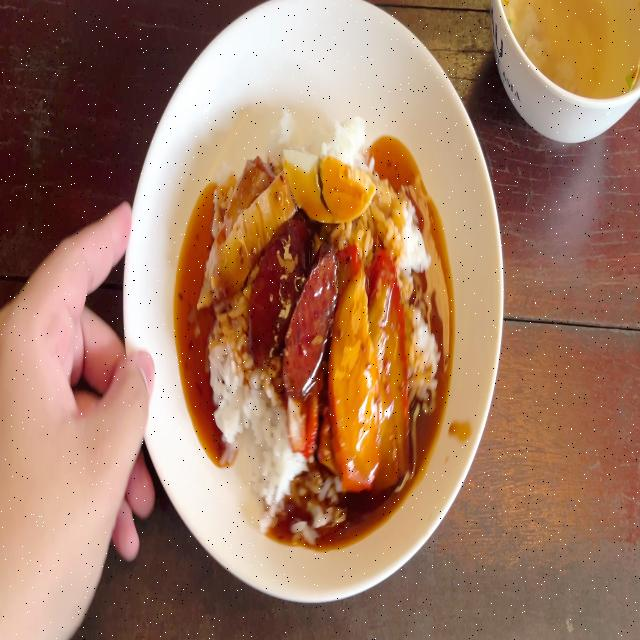boiled_egg: (278, 145, 372, 226)
chainese_sausage: (250, 222, 336, 383)
crispy_pork: (198, 156, 292, 306)
red_pork: (334, 254, 404, 464)
red_pork_and_crispy_pork: (206, 118, 438, 526)
rice: (235, 391, 285, 516), (208, 334, 255, 424), (379, 174, 422, 264), (328, 118, 382, 169)
